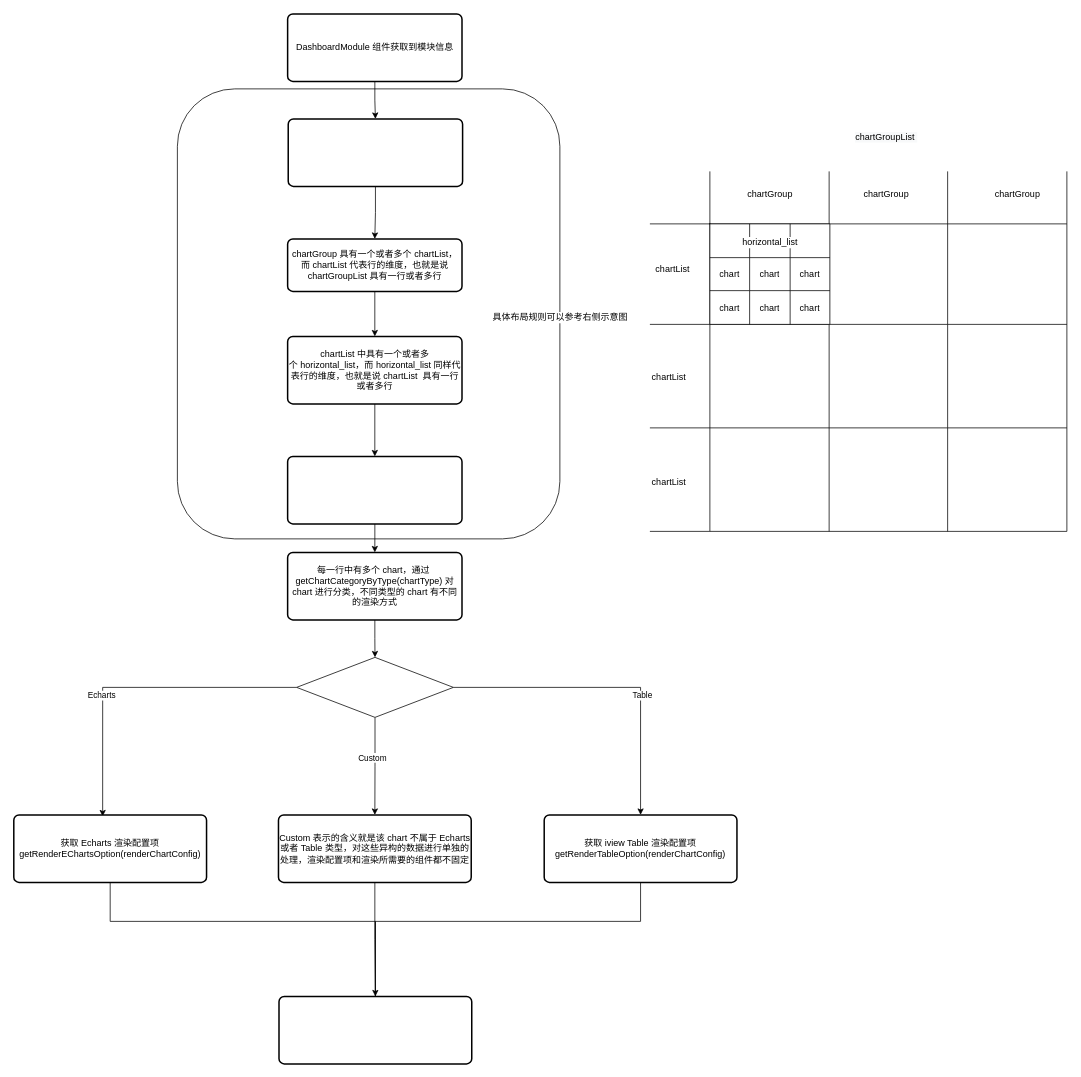
Some shapes in this 1081 by 1077 pixel diagram are drawn without their labels. Here are the shapes that lost their labels. From the top down, the box of each, then its label:
(287, 118, 463, 187): 根据 chartGroupList 对其进行列（column）的划分，也就是说 chartGroup 代表列的维度
(286, 455, 462, 524): horizontalList 具有一个或者多个 chart，而这里的 chart 就是我们最终承载渲染的容器元素
(296, 657, 453, 717): chartCategory
(278, 995, 472, 1064): 得到渲染的最终结果 chart
